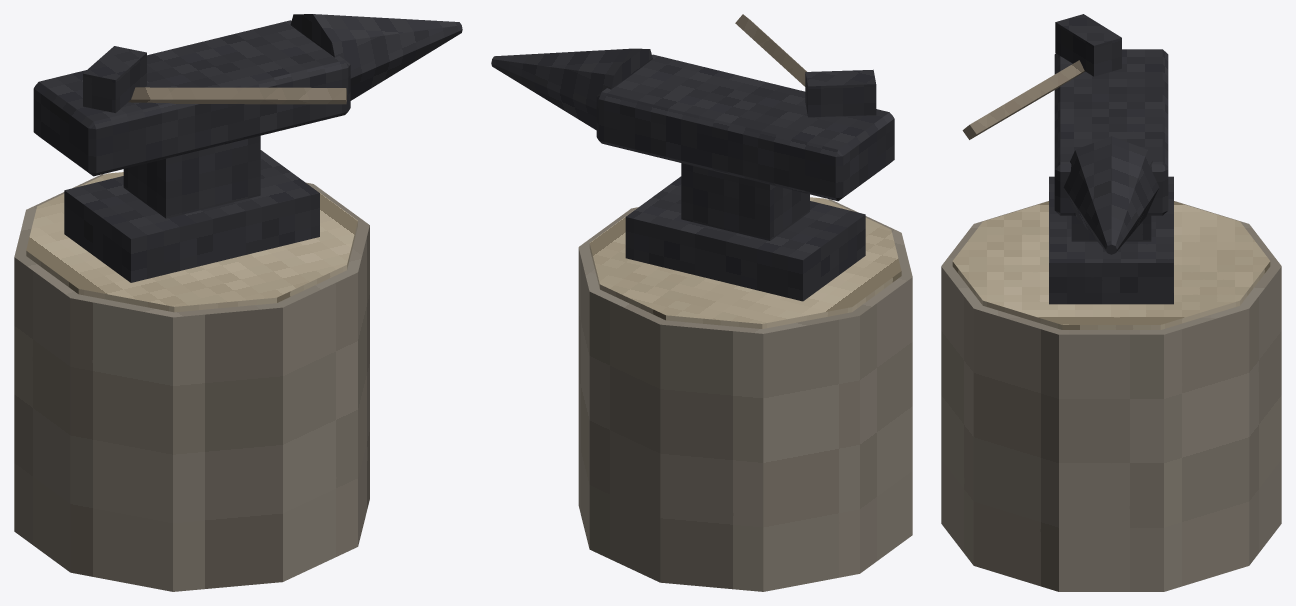
File: anvil_stump.obj
The picture shows the model from 3 angles, left to right: view 1: azimuth 30°, elevation 25°; view 2: azimuth 150°, elevation 25°; view 3: azimuth 270°, elevation 25°; orthographic projection. The views are drawn at different scales.
Parts seen in each view (by area): view 1: anvil_stump; view 2: anvil_stump; view 3: anvil_stump.
Part boxes in pixels (x1=…): anvil_stump: x1=14, y1=14, x2=462, y2=591; anvil_stump: x1=491, y1=14, x2=912, y2=591; anvil_stump: x1=941, y1=14, x2=1281, y2=591.
Size of the model in its own units: 0.7953 by 0.88 by 0.6.
